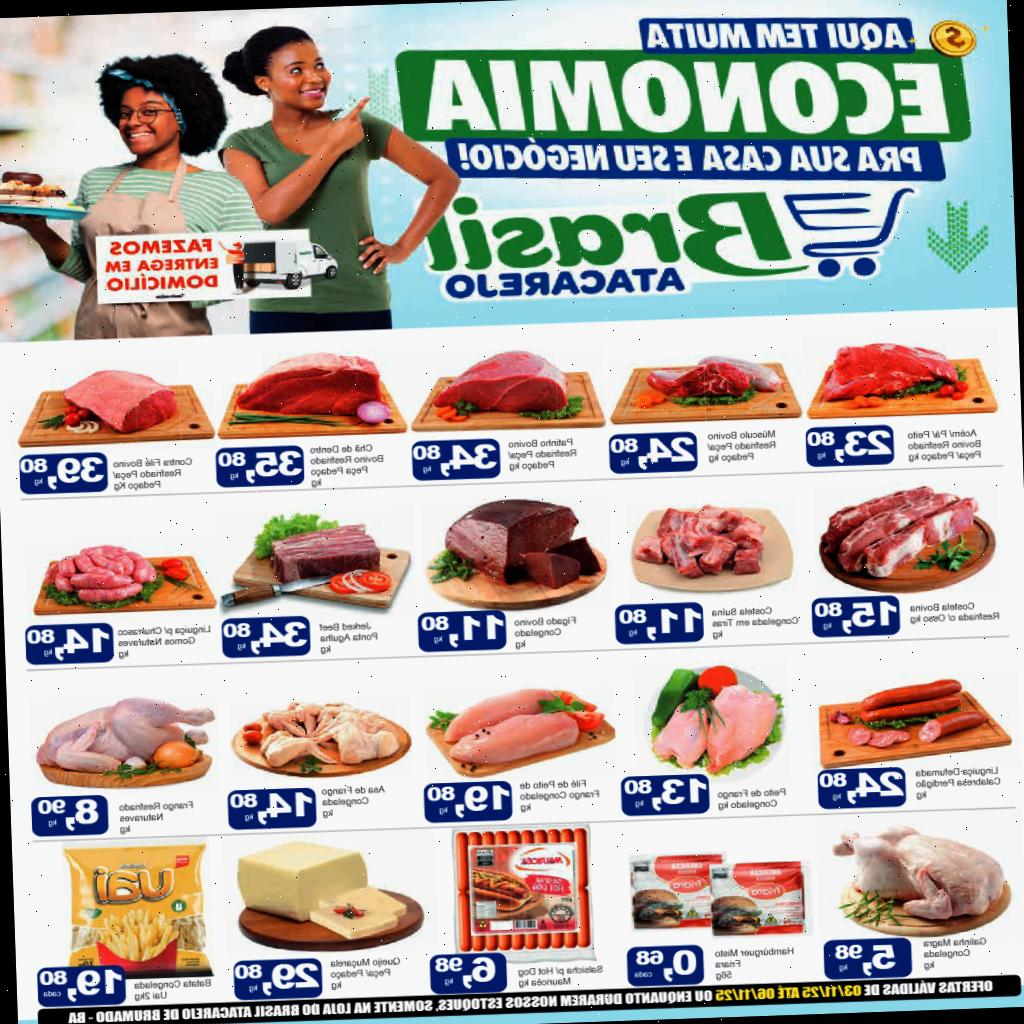price: (228, 788, 314, 828), (812, 598, 900, 636), (216, 448, 304, 486), (233, 960, 321, 998), (818, 768, 906, 806), (420, 612, 506, 650), (38, 966, 123, 1004), (609, 434, 696, 471), (20, 454, 104, 492), (618, 605, 704, 642), (222, 619, 308, 656), (623, 776, 709, 813), (806, 428, 892, 464), (412, 442, 498, 478), (26, 626, 112, 662), (426, 782, 510, 818), (828, 941, 898, 978), (628, 946, 696, 984), (34, 796, 100, 833), (432, 954, 498, 990)
product_text: (116, 622, 212, 662), (708, 602, 802, 642), (306, 441, 386, 488), (912, 763, 1002, 803), (710, 943, 798, 983), (110, 454, 196, 493), (902, 425, 985, 465), (518, 775, 603, 814), (116, 796, 198, 834), (704, 426, 780, 466), (328, 952, 404, 992), (505, 435, 581, 472), (510, 611, 581, 650), (906, 598, 1004, 626), (318, 782, 388, 820), (314, 618, 382, 656), (920, 936, 990, 972), (514, 962, 606, 988), (714, 784, 788, 812), (129, 978, 213, 1002)
